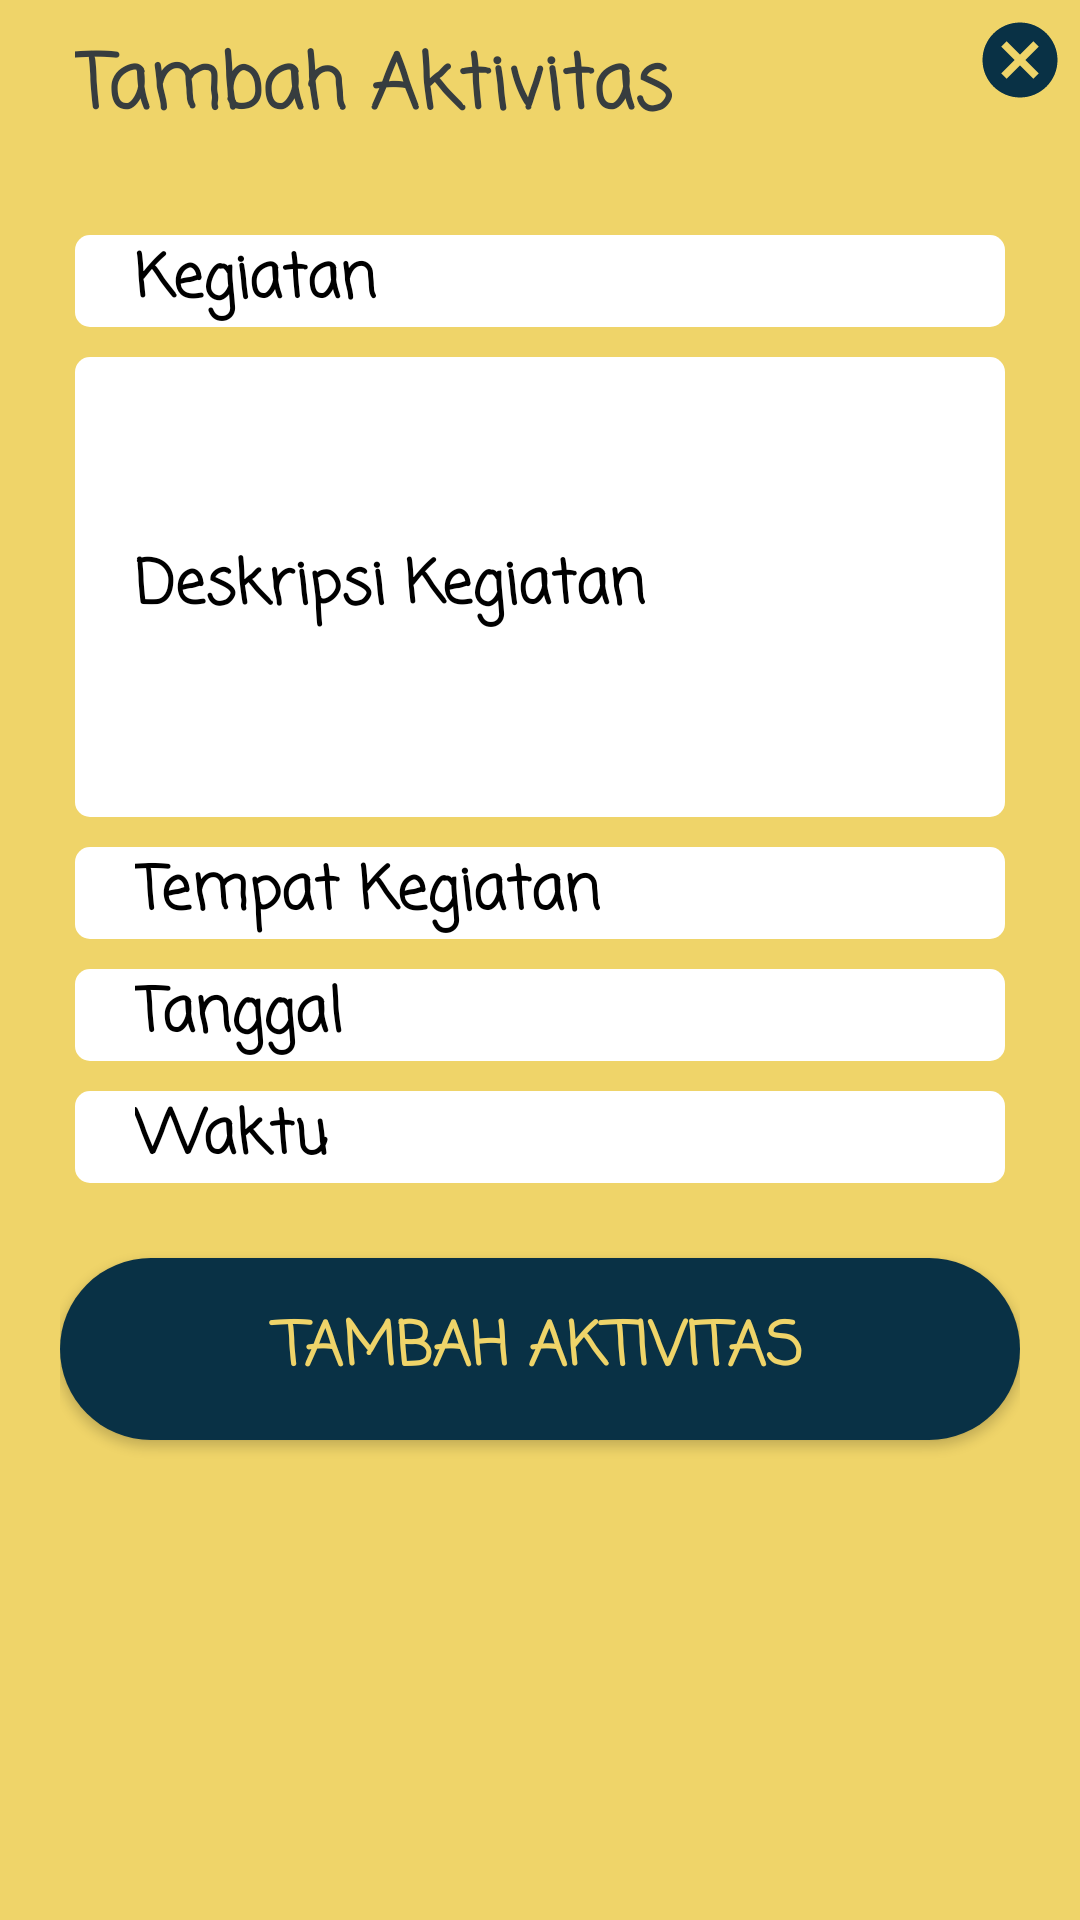

Point at icon controls on the screen. Image size 1080px x 1920px, points as [x,y].
exit: [1020,60]
